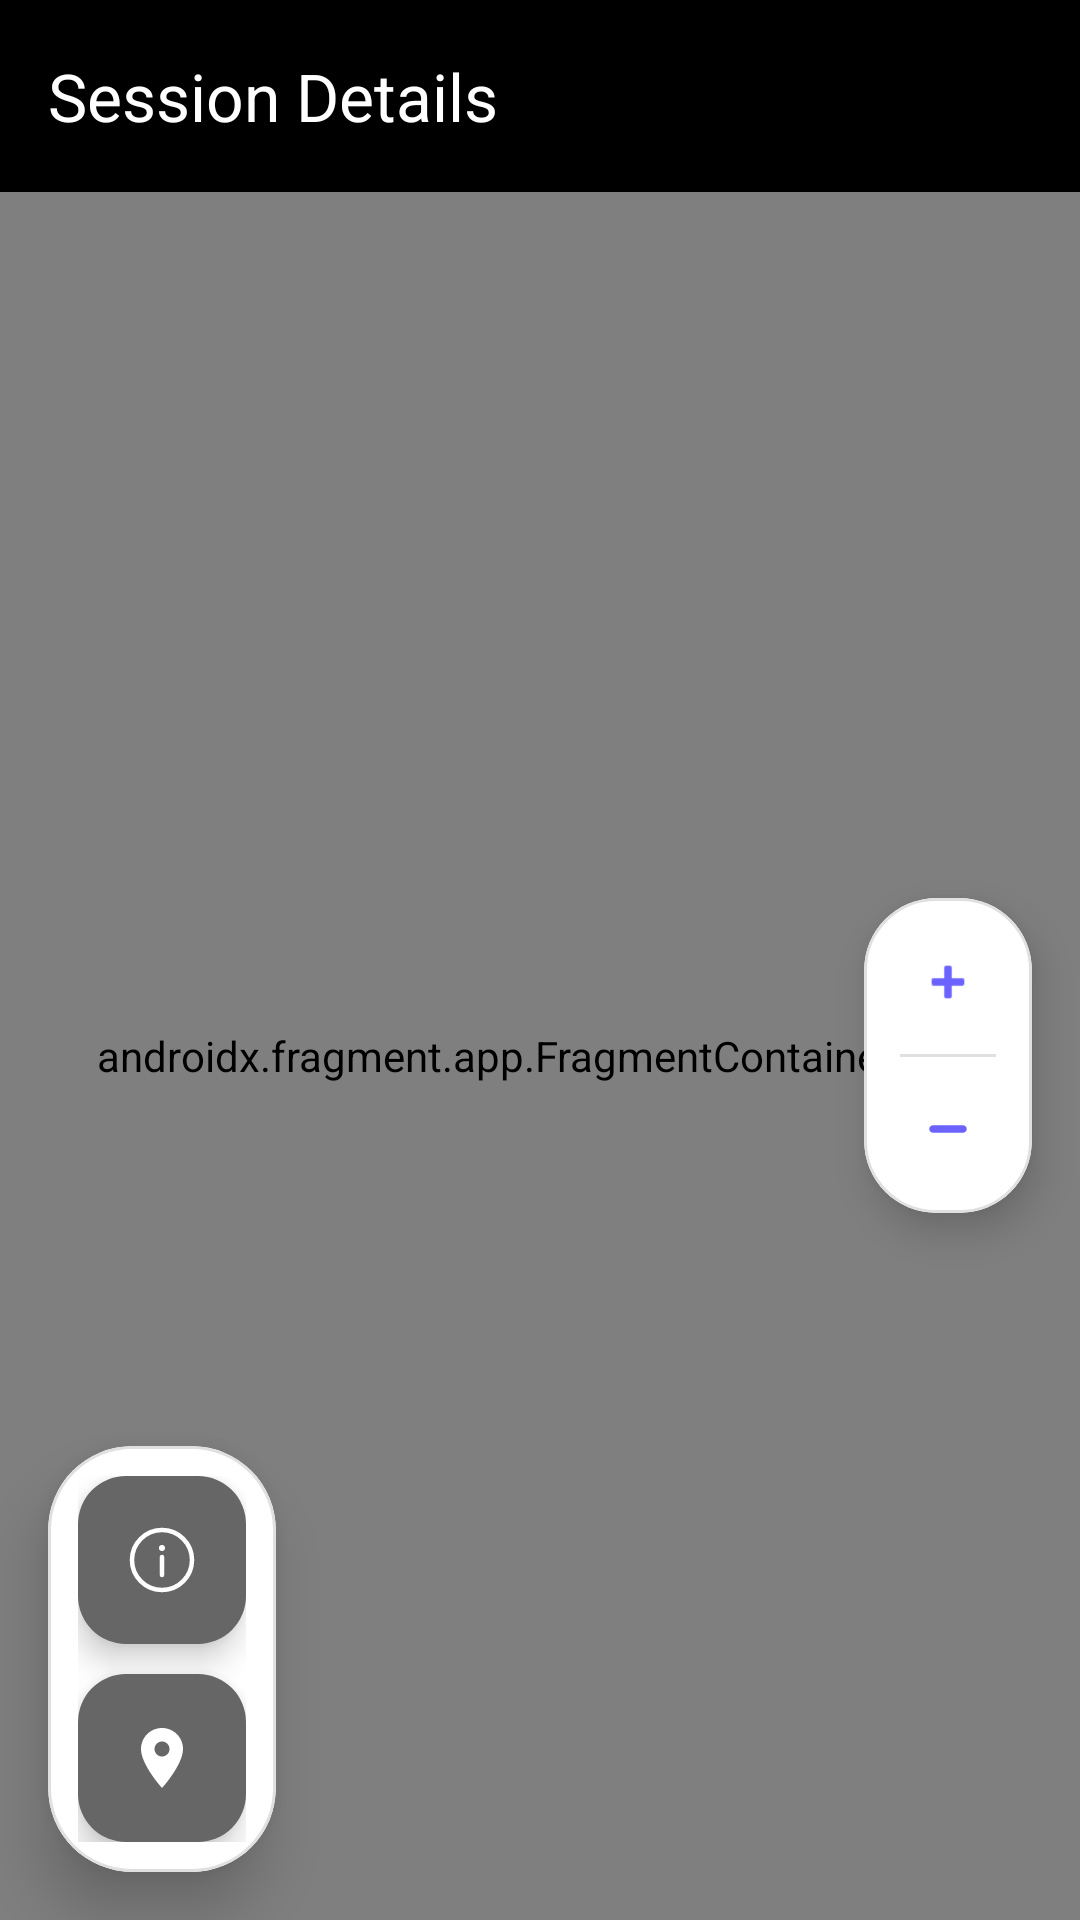

Icon click points for this 1080w x 1920h phone screenshot, format point (x, y):
info circle: point (162, 1560)
pin: point (162, 1758)
